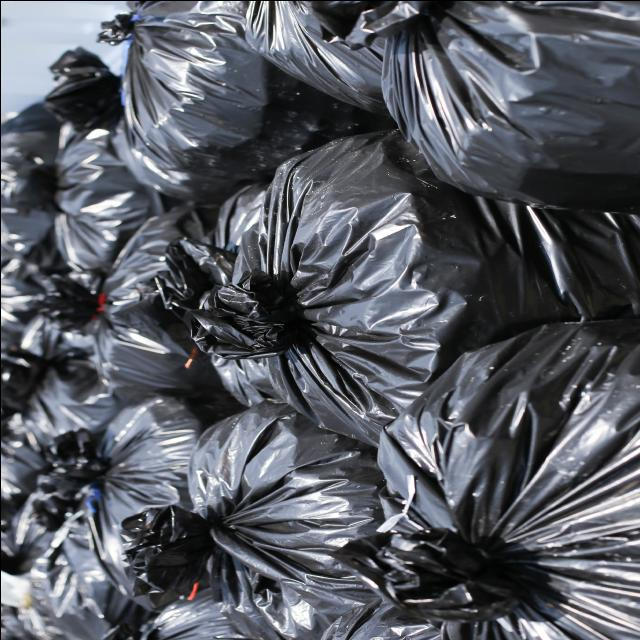plastik: (186, 131, 640, 444), (335, 318, 640, 640), (310, 0, 640, 212), (121, 401, 382, 640), (99, 0, 386, 200), (19, 204, 224, 399), (0, 48, 162, 273), (37, 395, 201, 593), (0, 515, 251, 640)
